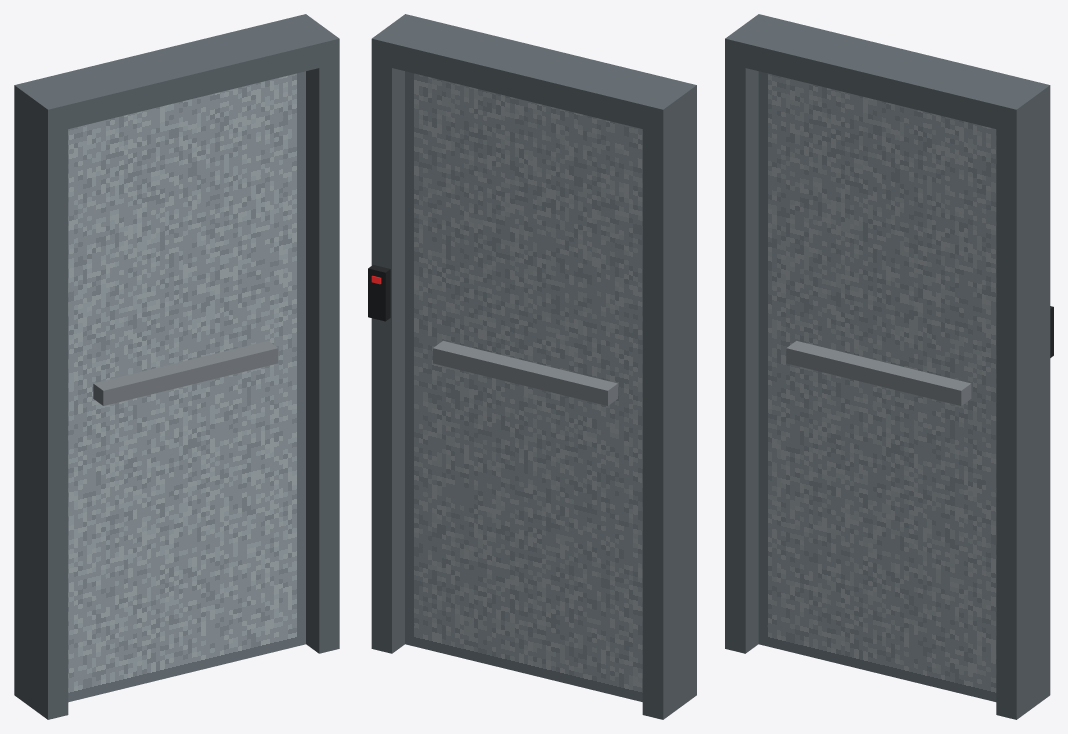
File: t_door_metal_locked.glb
3 renders of one model, left to right at view 1: azimuth 30°, elevation 25°; view 2: azimuth 150°, elevation 25°; view 3: azimuth 330°, elevation 25°, orthographic.
Parts seen in each view (by area): view 1: block_panel, block_jamb-1, block_jamb1, block_head, block_pushbar1; view 2: block_panel, block_jamb-1, block_jamb1, block_head, block_pushbar-1, block_reader; view 3: block_panel, block_jamb1, block_jamb-1, block_head, block_pushbar1.
Boxes of the visible parts, <box> form: block_panel: <box>68,71,305,702</box>; block_jamb-1: <box>14,80,68,719</box>; block_jamb1: <box>286,14,339,653</box>; block_head: <box>35,19,319,128</box>; block_pushbar1: <box>93,341,278,405</box>; block_panel: <box>405,71,642,701</box>; block_jamb-1: <box>642,80,696,719</box>; block_jamb1: <box>371,14,425,653</box>; block_head: <box>392,19,675,128</box>; block_pushbar-1: <box>433,341,617,405</box>; block_reader: <box>368,265,390,321</box>; block_panel: <box>758,71,996,701</box>; block_jamb1: <box>996,80,1050,719</box>; block_jamb-1: <box>725,14,778,653</box>; block_head: <box>745,19,1029,128</box>; block_pushbar1: <box>786,341,971,405</box>.
Size of the model in its own units: 1 by 2 by 0.235.
Materials: 3 (3 with a texture image).
